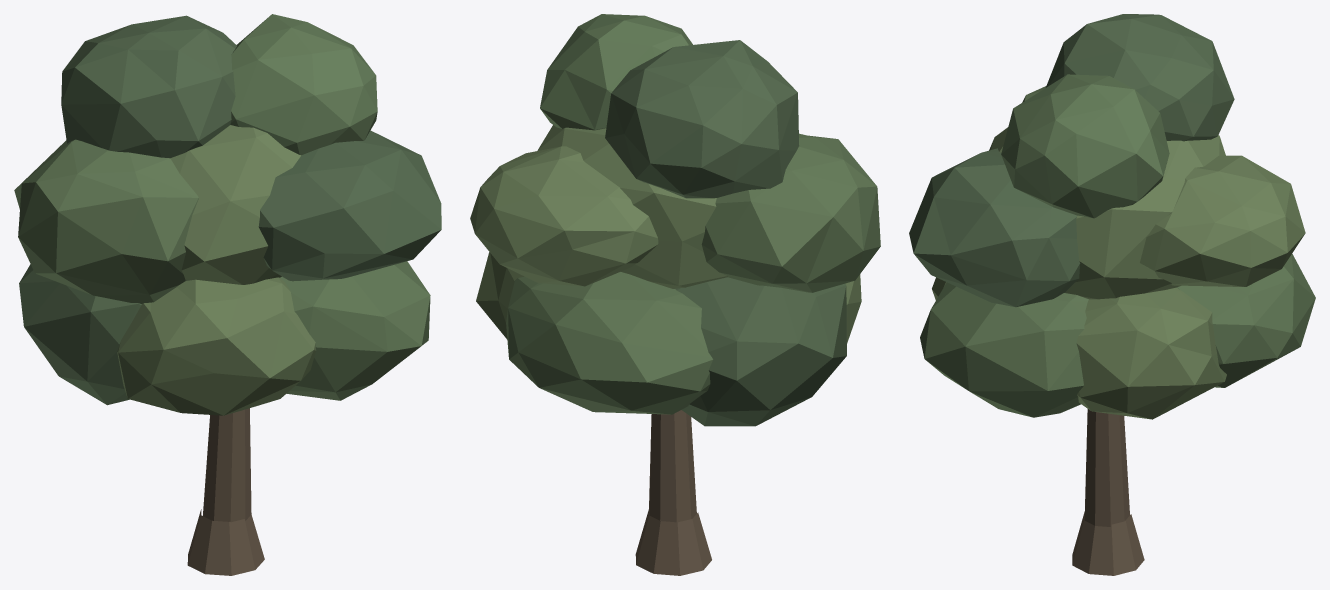
File: tree_oak.glb
3 views of the same model, side by side, from view 1: azimuth 30°, elevation 25°; view 2: azimuth 150°, elevation 25°; view 3: azimuth 270°, elevation 25° (orthographic). The views are drawn at different scales.
Parts seen in each view (by area): view 1: tree_oak.001; view 2: tree_oak.001; view 3: tree_oak.001.
Part boxes in pixels (bbox=[...]): tree_oak.001: bbox=[14, 14, 441, 575]; tree_oak.001: bbox=[470, 14, 880, 575]; tree_oak.001: bbox=[909, 14, 1315, 575].
Bounding box in the file's own units: 5.59 × 7.71 × 5.55.
